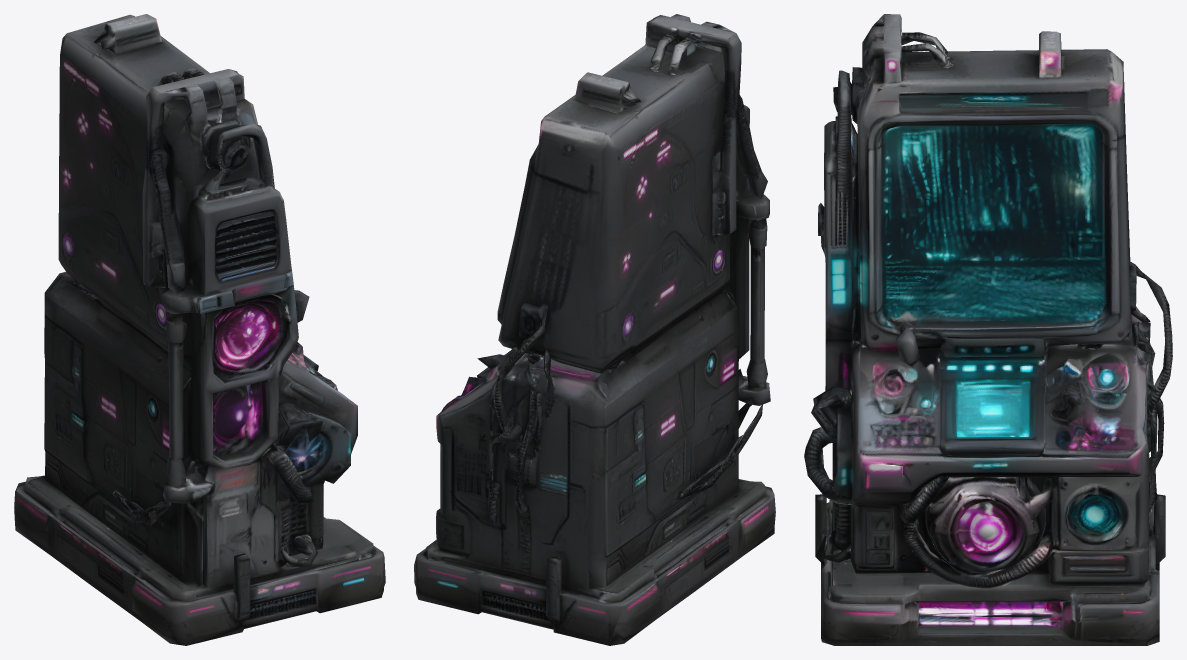
The model's file is tripo_convert_220a6f27-1651-474b-acf7-8a0a694d1892.fbx.
The picture shows the model from 3 angles, left to right: view 1: azimuth 30°, elevation 25°; view 2: azimuth 150°, elevation 25°; view 3: azimuth 270°, elevation 25°; orthographic projection. The views are drawn at different scales.
Parts seen in each view (by area): view 1: tripo_node_220a6f27; view 2: tripo_node_220a6f27; view 3: tripo_node_220a6f27.
Part boxes in pixels (x1,y1,x2,y2): tripo_node_220a6f27: [14, 14, 385, 645]; tripo_node_220a6f27: [414, 14, 775, 645]; tripo_node_220a6f27: [804, 14, 1172, 645].
Bounding box in the file's own units: 0.4449 × 0.9998 × 0.6254.
1 material, 1 textured.
